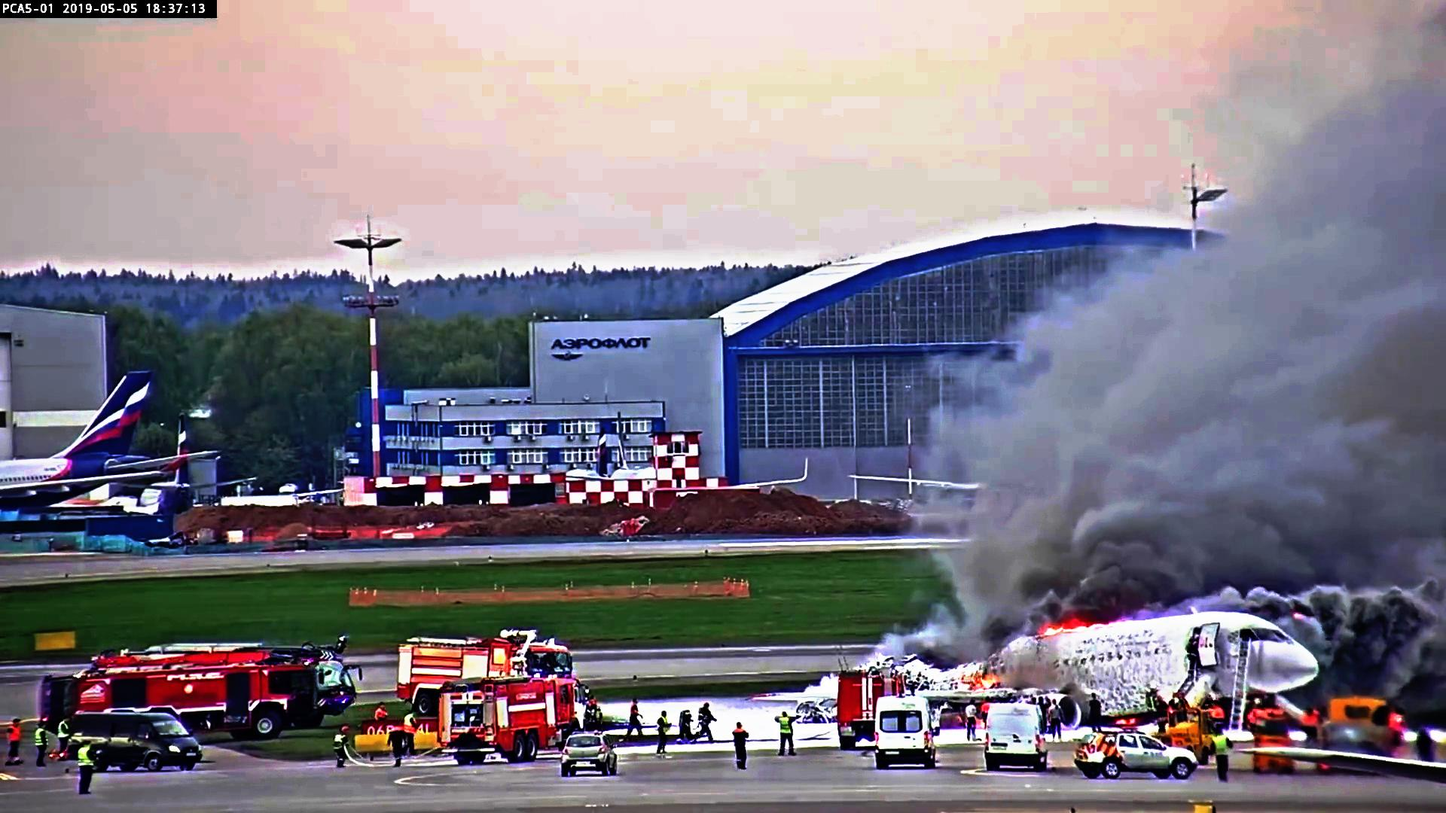smoke: (959, 251, 1446, 598), (1328, 571, 1446, 709)
